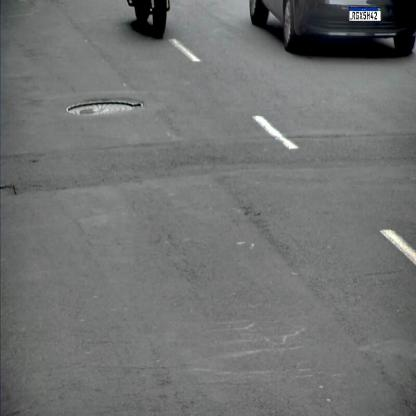PlacaM: (349, 7, 381, 21)
